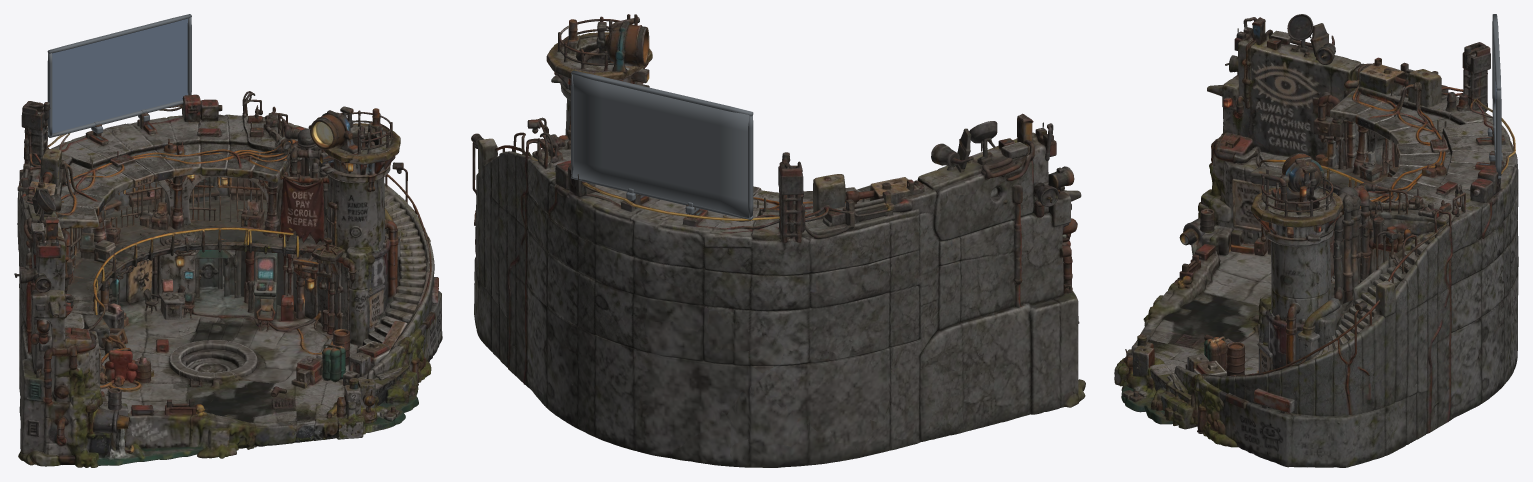
Rendered from kfb-meshy-prison-panopticon.screen-a.v2.glb.
3 renders of one model, left to right at view 1: azimuth 30°, elevation 25°; view 2: azimuth 150°, elevation 25°; view 3: azimuth 270°, elevation 25°, orthographic. The views are drawn at different scales.
Visible parts, largest first — view 1: prison_panopticon, kfb_screen_slot, kfb_screen_frame; view 2: prison_panopticon, kfb_screen_frame; view 3: prison_panopticon, kfb_screen_frame.
Boxes of the visible parts, left/top/right/bottom form: prison_panopticon: left=14, top=91, right=442, bottom=467; kfb_screen_slot: left=52, top=18, right=187, bottom=133; kfb_screen_frame: left=47, top=14, right=191, bottom=137; prison_panopticon: left=471, top=14, right=1085, bottom=467; kfb_screen_frame: left=571, top=70, right=753, bottom=219; prison_panopticon: left=1114, top=14, right=1518, bottom=467; kfb_screen_frame: left=1487, top=14, right=1502, bottom=178.
Size of the model in its own units: 1.9 by 1.18 by 1.43.
Materials: 3 (1 with a texture image).
